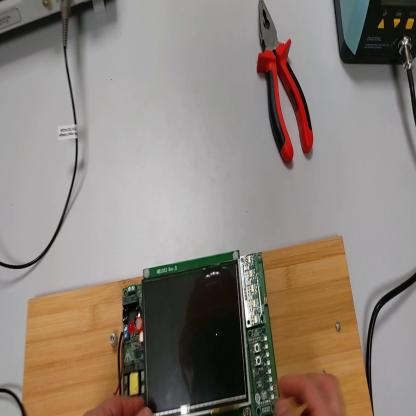hand: (276, 364, 346, 415), (83, 394, 155, 416)
low voltage board: (118, 250, 283, 415)
oscilloscope: (2, 2, 105, 35)
pliers: (257, 2, 315, 165)
welder station: (334, 2, 416, 66)
working area: (22, 237, 373, 416)
